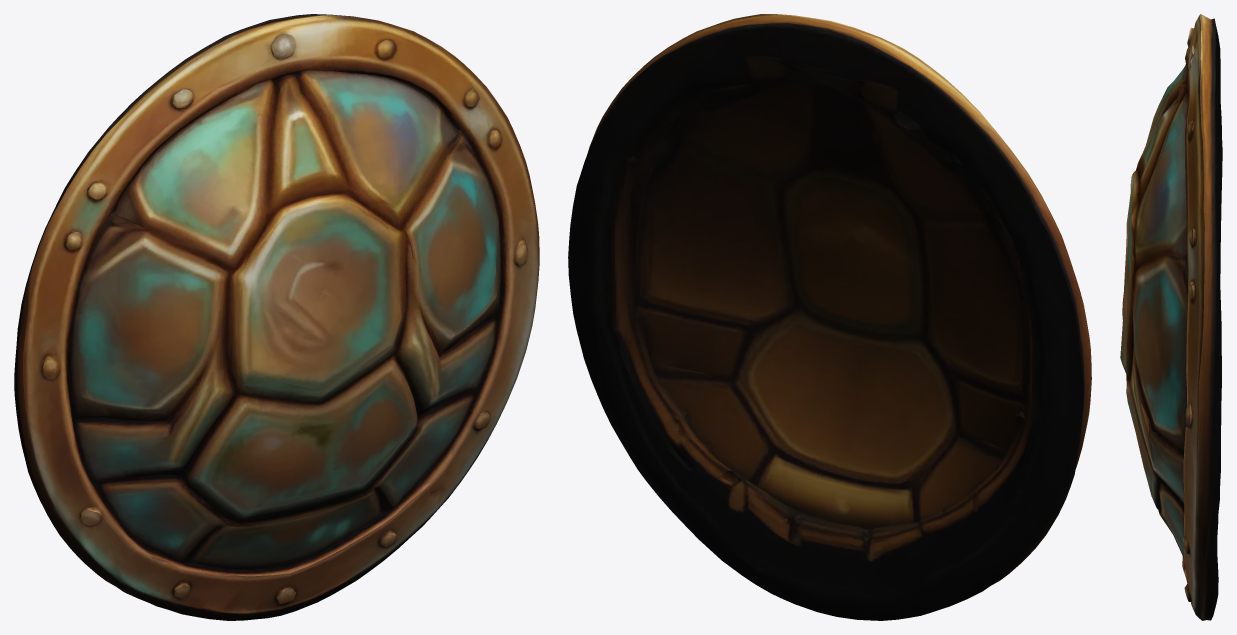
The model's file is bog_warden_shield.glb.
3 views of the same model, side by side, from view 1: azimuth 30°, elevation 25°; view 2: azimuth 150°, elevation 25°; view 3: azimuth 270°, elevation 25° (orthographic). The views are drawn at different scales.
Visible parts, largest first — view 1: world; view 2: world; view 3: world.
Part boxes in pixels (left/top/right/bottom): world: left=14, top=14, right=539, bottom=620; world: left=568, top=14, right=1091, bottom=620; world: left=1120, top=14, right=1222, bottom=620.
Size of the model in its own units: 0.7 by 0.7661 by 0.1267.
1 material, 1 textured.
